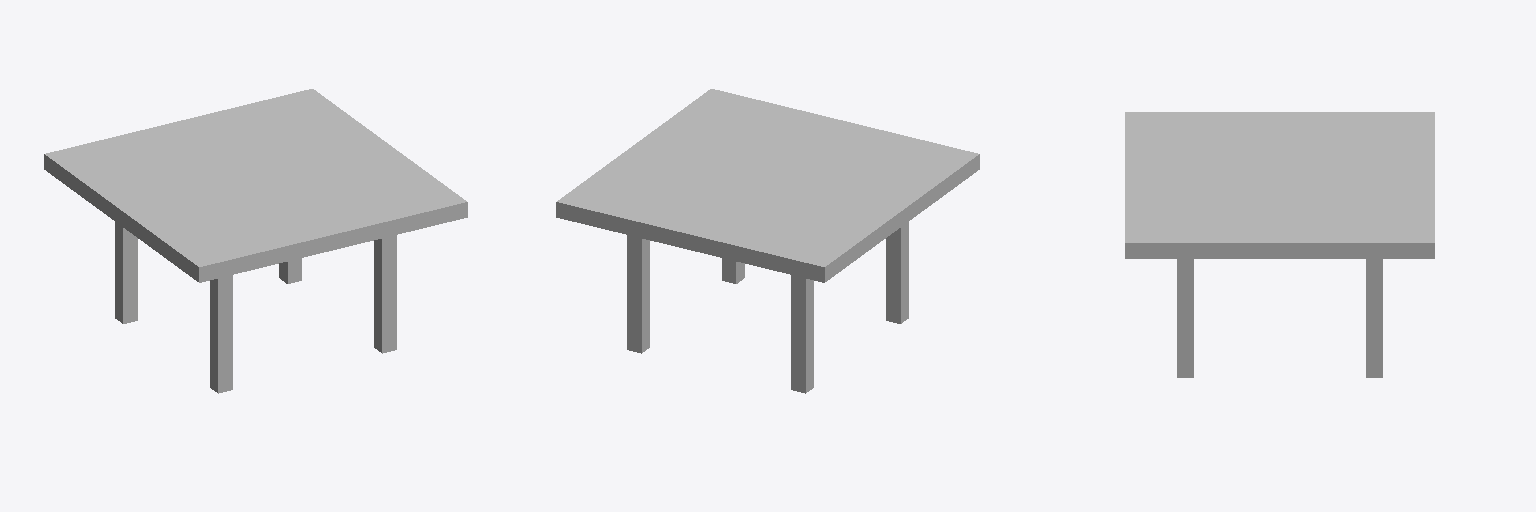
Rendered from WoodenTable1.obj.
3 views of the same model, side by side, from view 1: azimuth 30°, elevation 25°; view 2: azimuth 150°, elevation 25°; view 3: azimuth 270°, elevation 25° (orthographic).
Visible parts, largest first — view 1: object 1; view 2: object 1; view 3: object 1.
Boxes of the visible parts, <box> form: object 1: <box>44,89,467,393</box>; object 1: <box>556,89,979,393</box>; object 1: <box>1125,112,1434,377</box>.
Size of the model in its own units: 1.8 by 1 by 1.8.